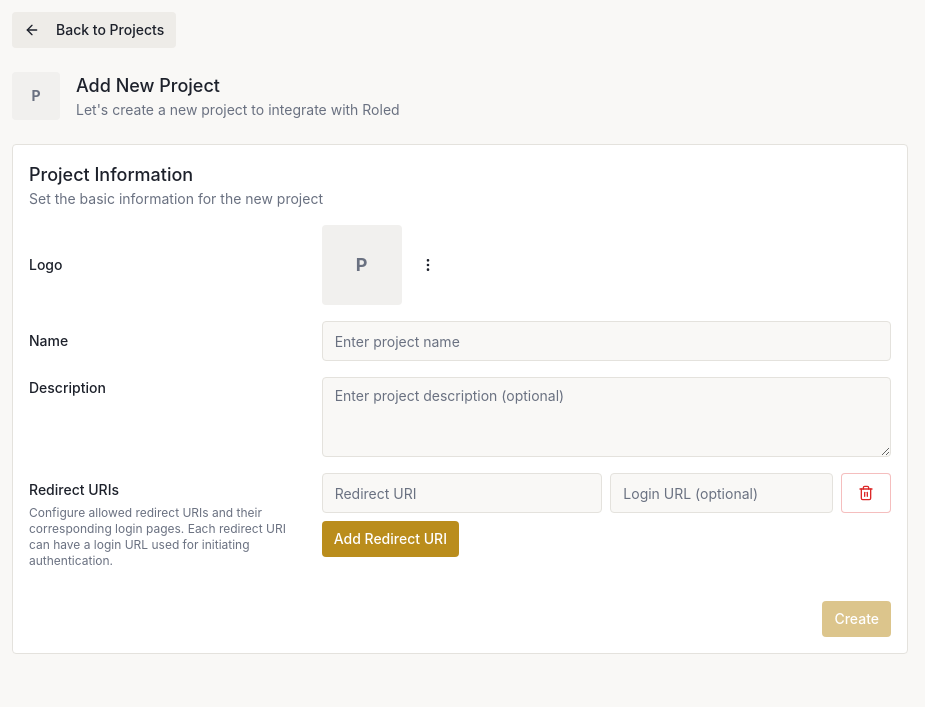
Test case: NewProject Page › removes redirect URI when delete button is clicked but keeps at least one row
Expected: the heading "Add New Project" is shown, [76,75,220,96]
// Add another redirect URI row (so we have 2)
Click the button "Add Redirect URI" at (390, 539), box [322,521,459,557]
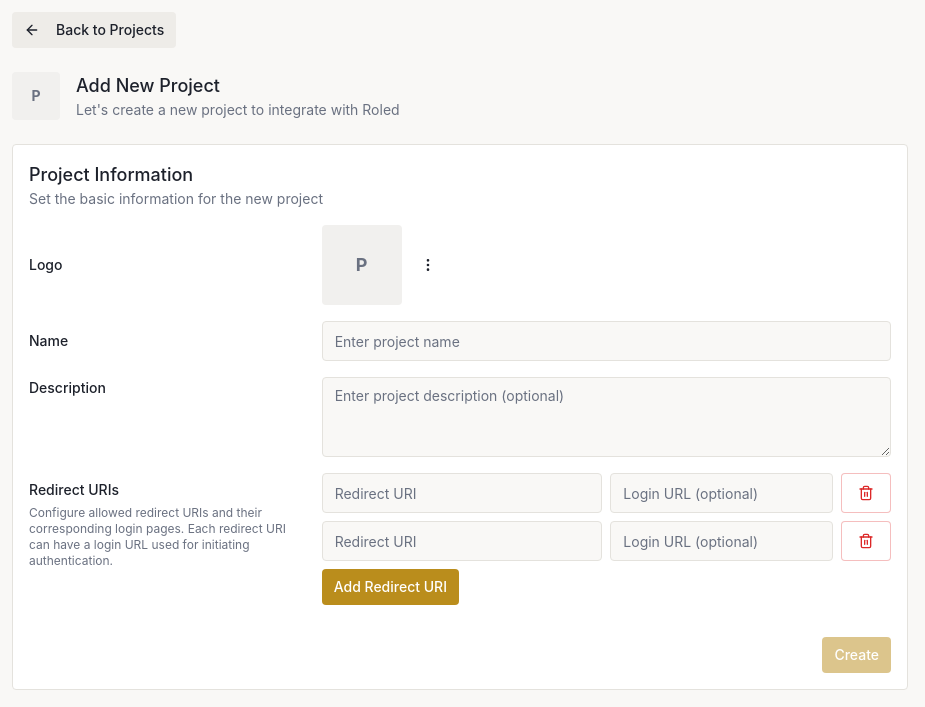
Expected: the number of fields with placeholder "Redirect URI" is 2
// Fill in the second redirect URI
Type "http://example.com/callback" into the 2nd field with placeholder "Redirect URI" at (462, 541), box [322,521,602,561]
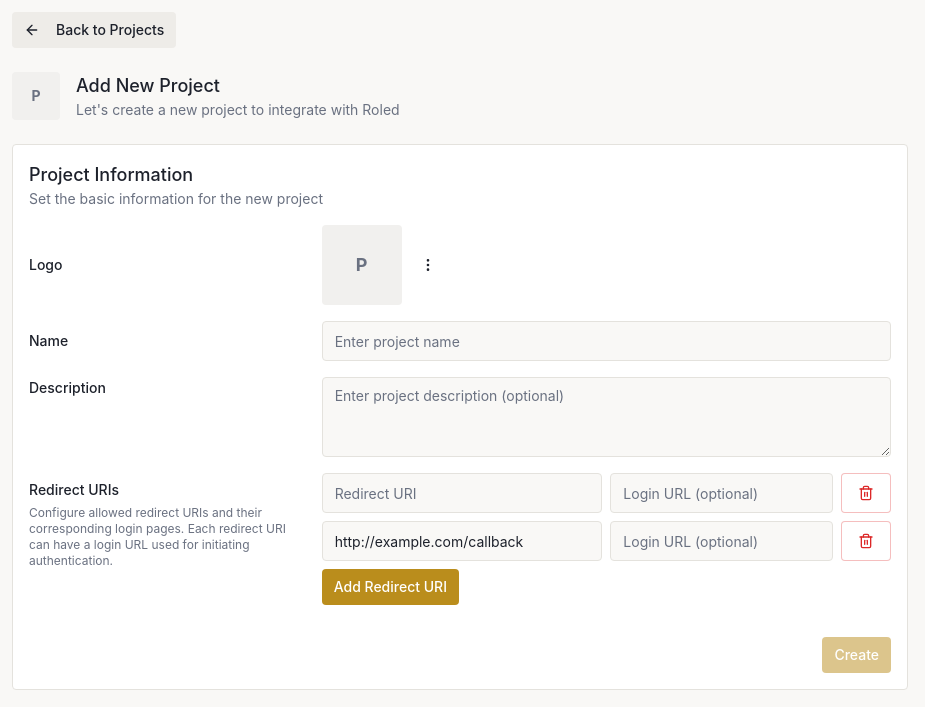
// Find and click the delete button on the second row
Click the button named "Delete redirect" at (866, 541), box [841,521,891,561]
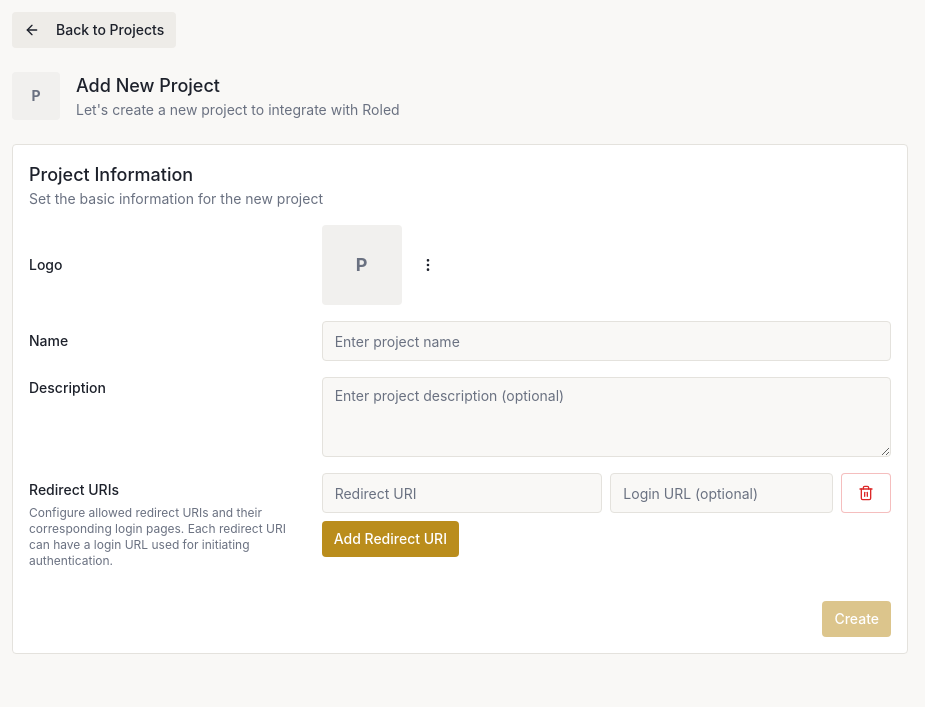
Expected: the number of fields with placeholder "Redirect URI" is 1, [322,473,602,513]
